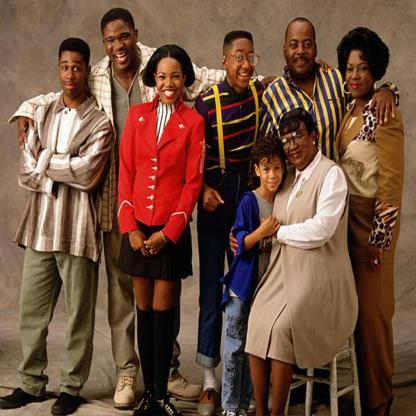face: (287, 32, 316, 75), (347, 54, 375, 98), (105, 29, 135, 69), (228, 45, 255, 89), (284, 126, 313, 166), (61, 56, 88, 96), (158, 66, 184, 104), (260, 160, 284, 193)
